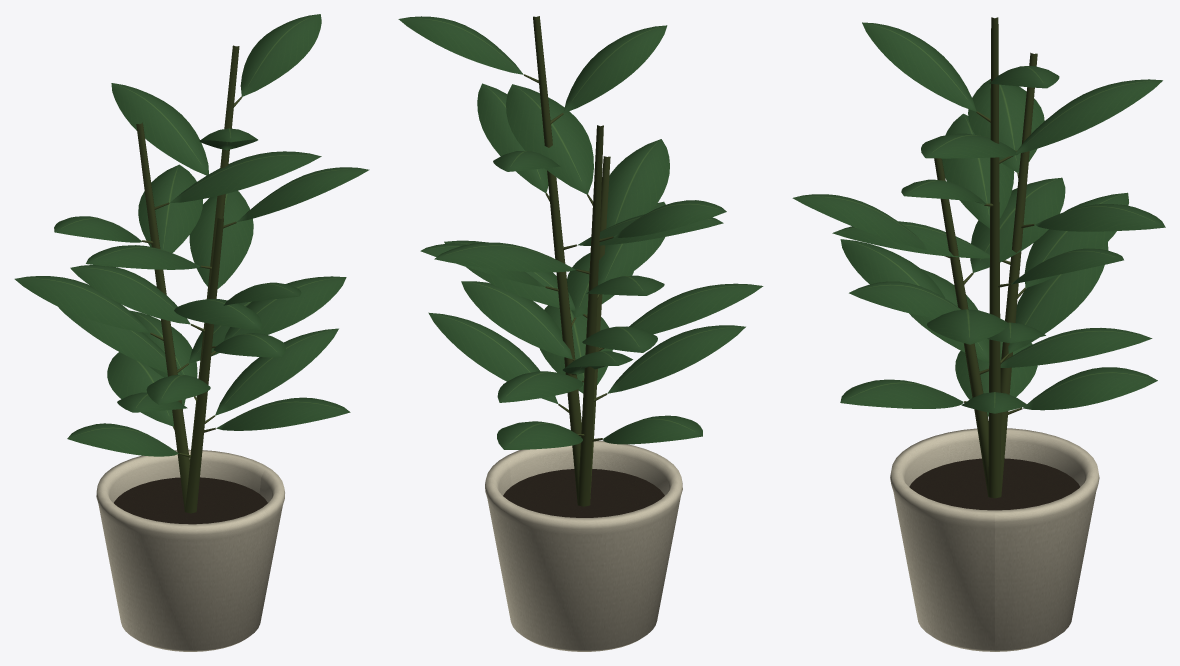
File: cozy-rubber-plant.glb
3 views of the same model, side by side, from view 1: azimuth 30°, elevation 25°; view 2: azimuth 150°, elevation 25°; view 3: azimuth 270°, elevation 25° (orthographic). The views are drawn at different scales.
Visible parts, largest first — view 1: cozy-rubber-plant - Rubber leaf, cozy-rubber-plant - Warm ivory ceramic, cozy-rubber-plant - Botanical stems, cozy-rubber-plant - Dark potting soil; view 2: cozy-rubber-plant - Rubber leaf, cozy-rubber-plant - Warm ivory ceramic, cozy-rubber-plant - Botanical stems, cozy-rubber-plant - Dark potting soil; view 3: cozy-rubber-plant - Rubber leaf, cozy-rubber-plant - Warm ivory ceramic, cozy-rubber-plant - Botanical stems, cozy-rubber-plant - Dark potting soil.
Boxes of the visible parts, x1=… form: cozy-rubber-plant - Rubber leaf: x1=14, y1=14, x2=369, y2=456; cozy-rubber-plant - Warm ivory ceramic: x1=96, y1=449, x2=284, y2=651; cozy-rubber-plant - Botanical stems: x1=136, y1=45, x2=242, y2=513; cozy-rubber-plant - Dark potting soil: x1=114, y1=477, x2=267, y2=524; cozy-rubber-plant - Rubber leaf: x1=398, y1=16, x2=763, y2=449; cozy-rubber-plant - Warm ivory ceramic: x1=485, y1=440, x2=682, y2=651; cozy-rubber-plant - Botanical stems: x1=524, y1=16, x2=613, y2=506; cozy-rubber-plant - Dark potting soil: x1=503, y1=469, x2=664, y2=517; cozy-rubber-plant - Rubber leaf: x1=792, y1=22, x2=1165, y2=416; cozy-rubber-plant - Warm ivory ceramic: x1=890, y1=428, x2=1099, y2=651; cozy-rubber-plant - Botanical stems: x1=934, y1=17, x2=1037, y2=498; cozy-rubber-plant - Dark potting soil: x1=909, y1=458, x2=1079, y2=510.
Bounding box in the file's own units: 0.6374 × 1.19 × 0.6422.
4 materials, 3 textured.
